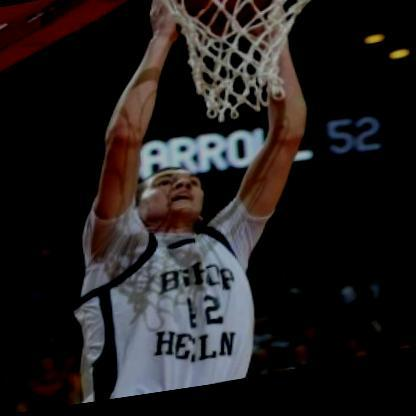basketball: (171, 0, 276, 49)
